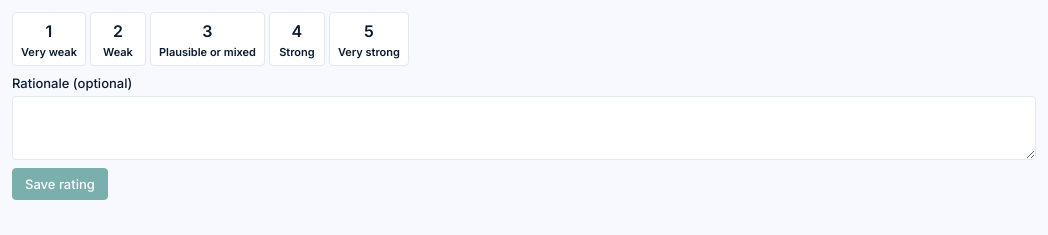
Test: AssertionRatingWidget › shows error feedback when the save rejects
Click the radio button labelled "2 Weak" at (118, 39), box [90, 12, 146, 66]
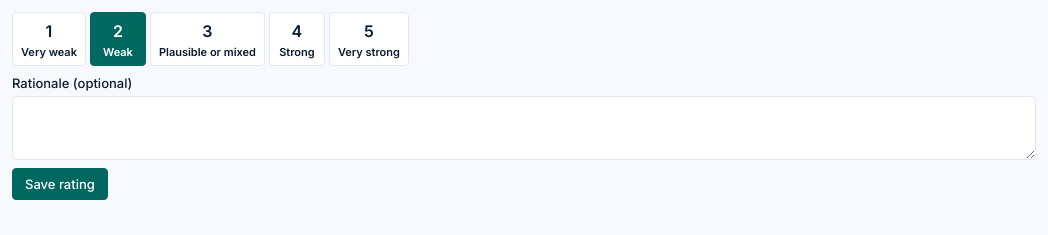
Click the button "Save rating" at (60, 184), box [12, 168, 108, 200]
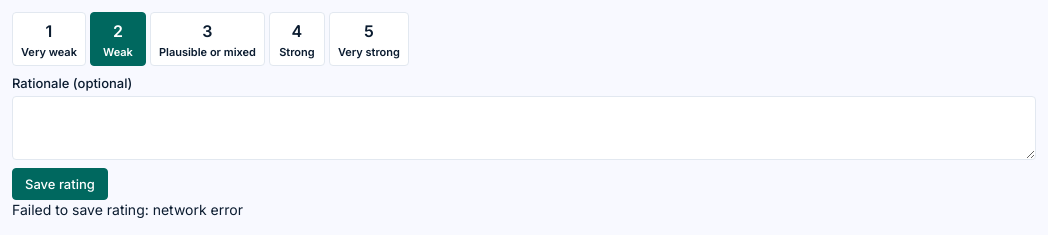
Result: the text "Failed to save rating: network error" is shown at [12, 201, 243, 218]
